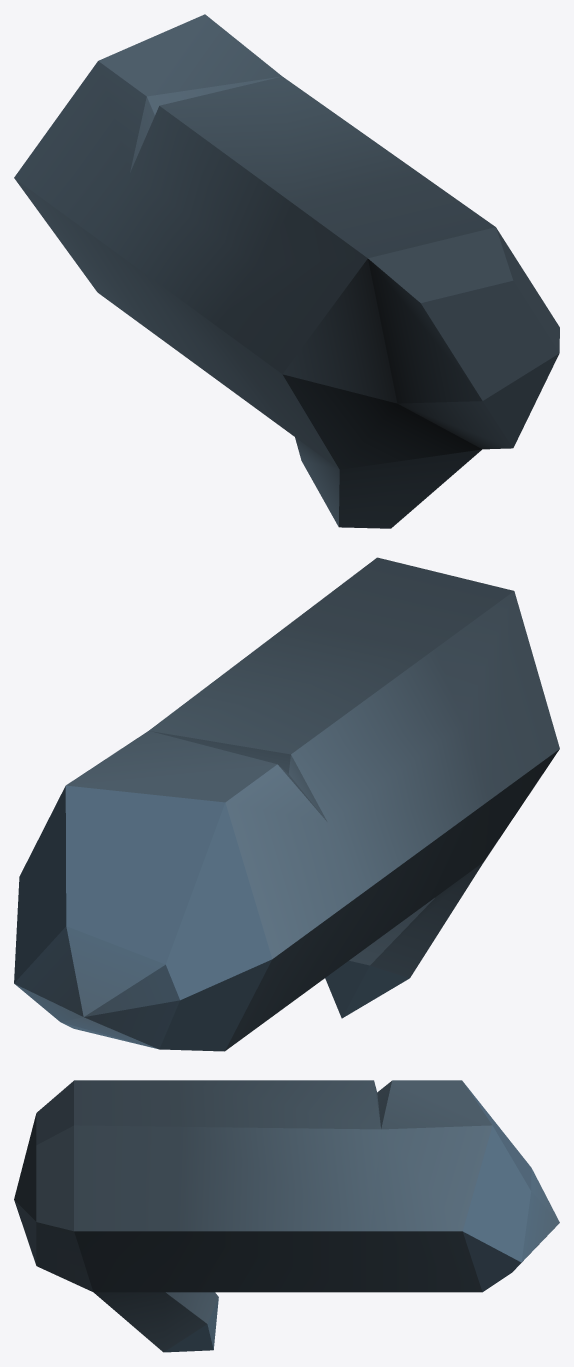
The model's file is CalciteCrystal.004.glb.
3 renders of one model, top to bottom at view 1: azimuth 30°, elevation 25°; view 2: azimuth 150°, elevation 25°; view 3: azimuth 270°, elevation 25°, orthographic. The views are drawn at different scales.
Parts seen in each view (by area): view 1: CalciteCrystal.004; view 2: CalciteCrystal.004; view 3: CalciteCrystal.004.
Part boxes in pixels (box(x1,y1,x2,y2)): CalciteCrystal.004: box(14, 14, 559, 528); CalciteCrystal.004: box(14, 557, 559, 1051); CalciteCrystal.004: box(14, 1080, 559, 1352).
Bounding box in the file's own units: 274 × 351 × 703.
